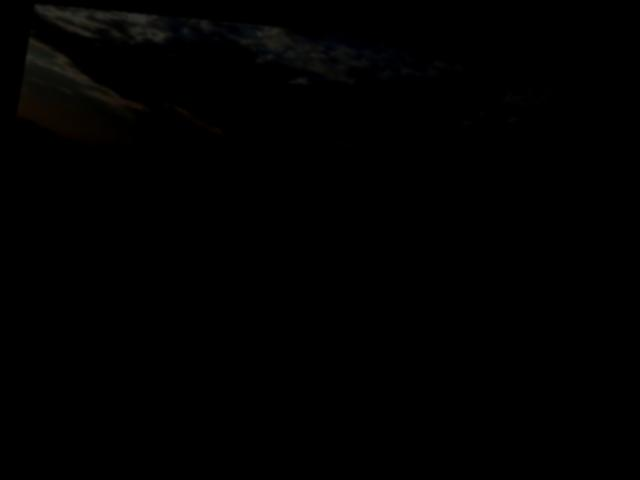iha: (385, 325, 435, 373)
